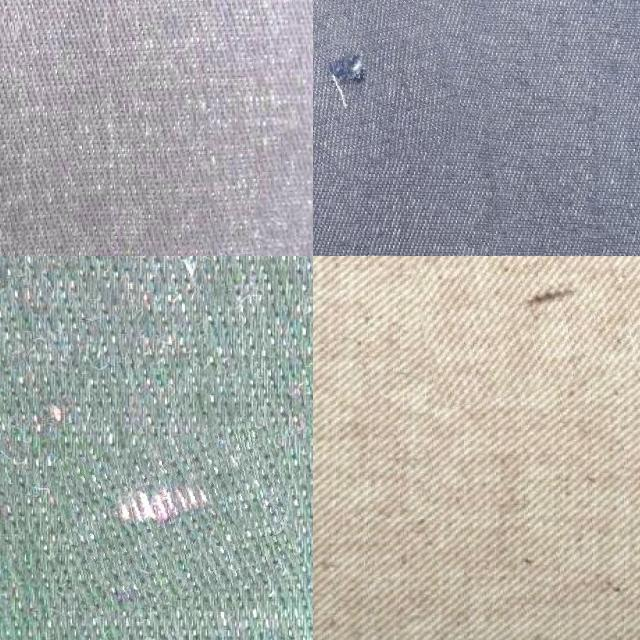Thread_other: (60, 428, 298, 610), (410, 256, 640, 397), (313, 0, 461, 172)
